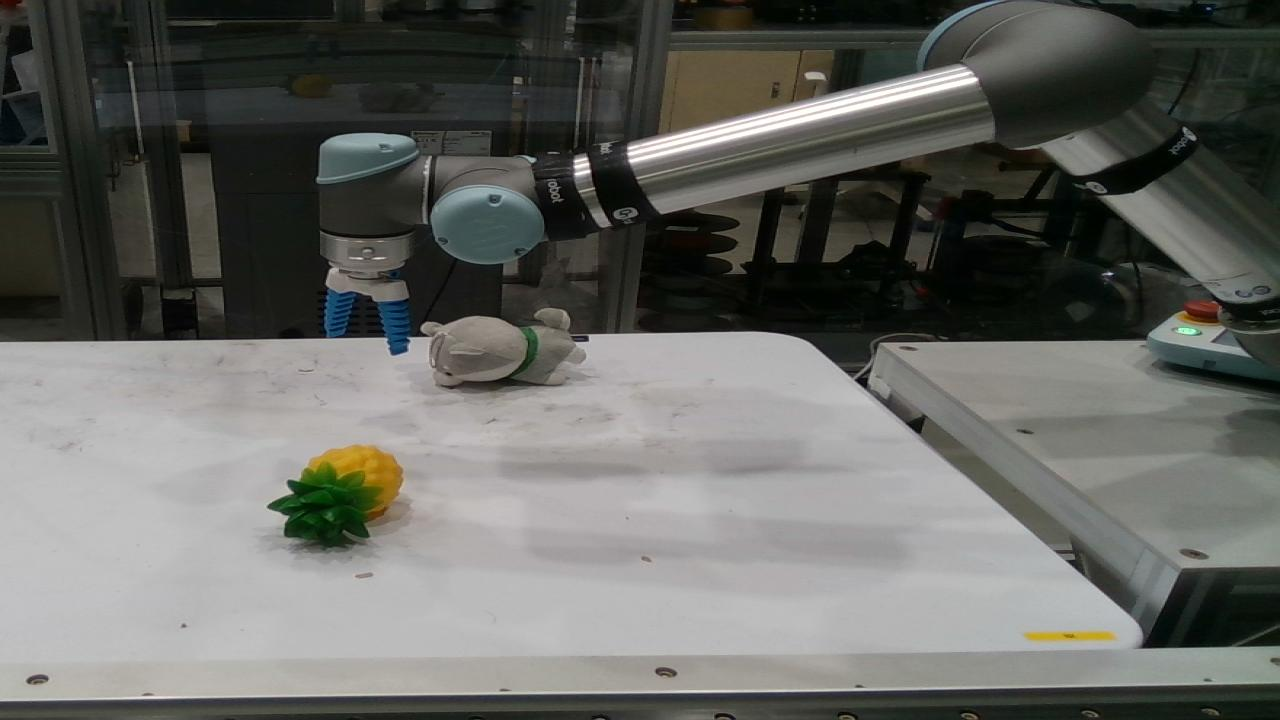UR5: (317, 0, 1279, 370)
gripper_left: (324, 287, 357, 338)
gripper_right: (375, 301, 410, 356)
target: (265, 444, 405, 547), (421, 308, 587, 388)
